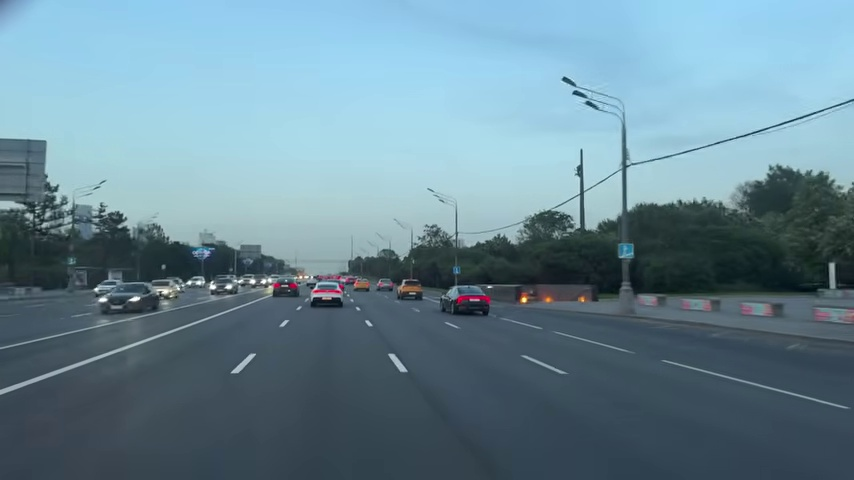apagada: (557, 74, 598, 113), (557, 73, 586, 105), (425, 185, 442, 202), (92, 178, 106, 192)
